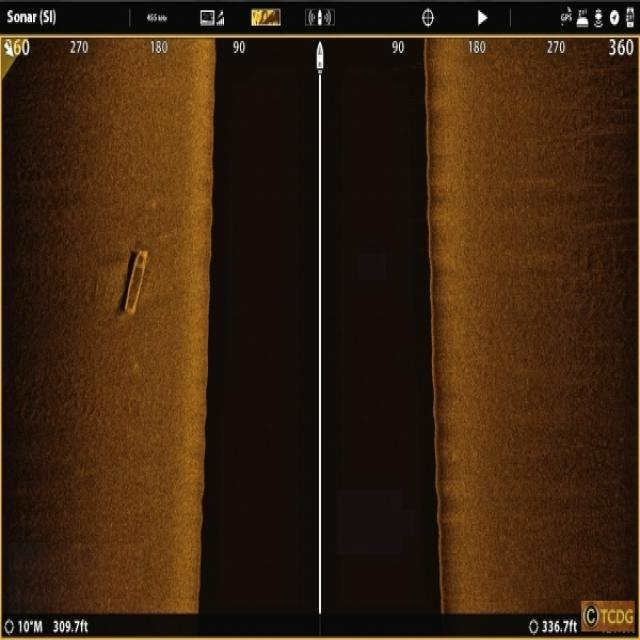ship: (118, 242, 152, 314)
